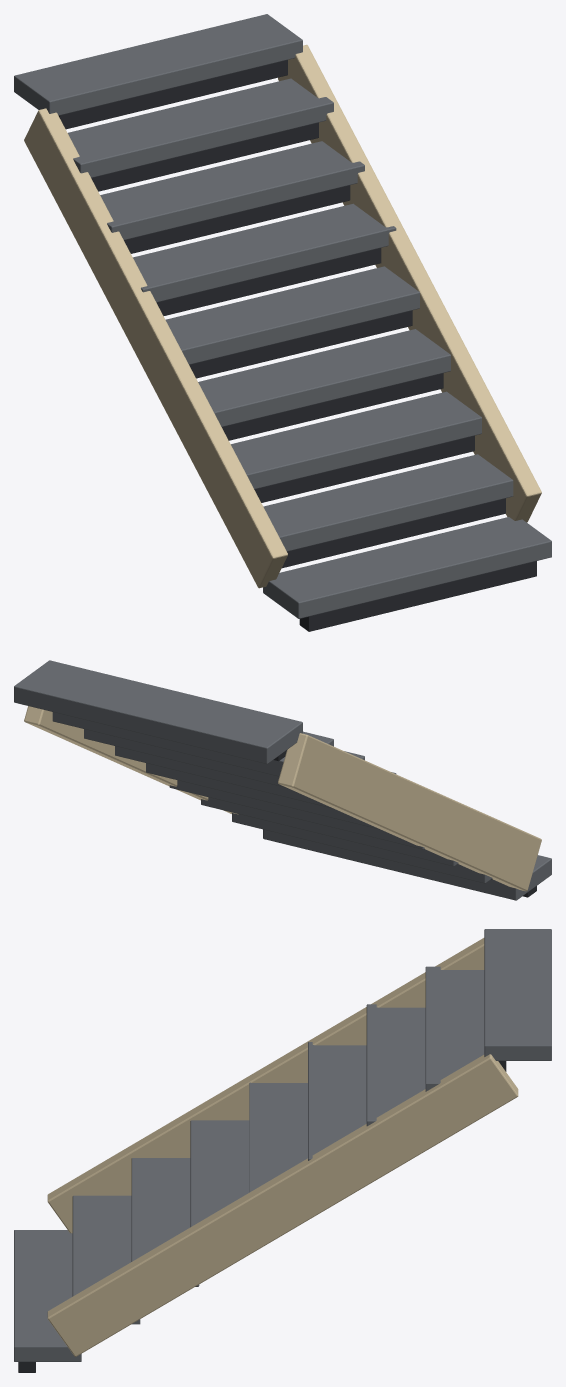
File: env_stairs.fbx
3 views of the same model, one above another, from view 1: azimuth 30°, elevation 25°; view 2: azimuth 150°, elevation 25°; view 3: azimuth 270°, elevation 25° (orthographic). The views are drawn at different scales.
Parts seen in each view (by area): view 1: SM_Env_Stairs; view 2: SM_Env_Stairs; view 3: SM_Env_Stairs.
Part boxes in pixels (bbox=[...]): SM_Env_Stairs: bbox=[14, 14, 551, 631]; SM_Env_Stairs: bbox=[14, 660, 551, 900]; SM_Env_Stairs: bbox=[14, 929, 551, 1372].
Size of what is drawn, in the model's own units: 170 by 213 by 311.
